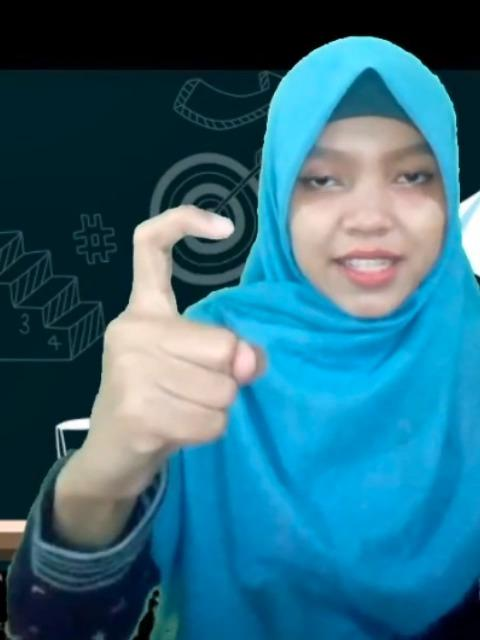X: (91, 196, 267, 499)
